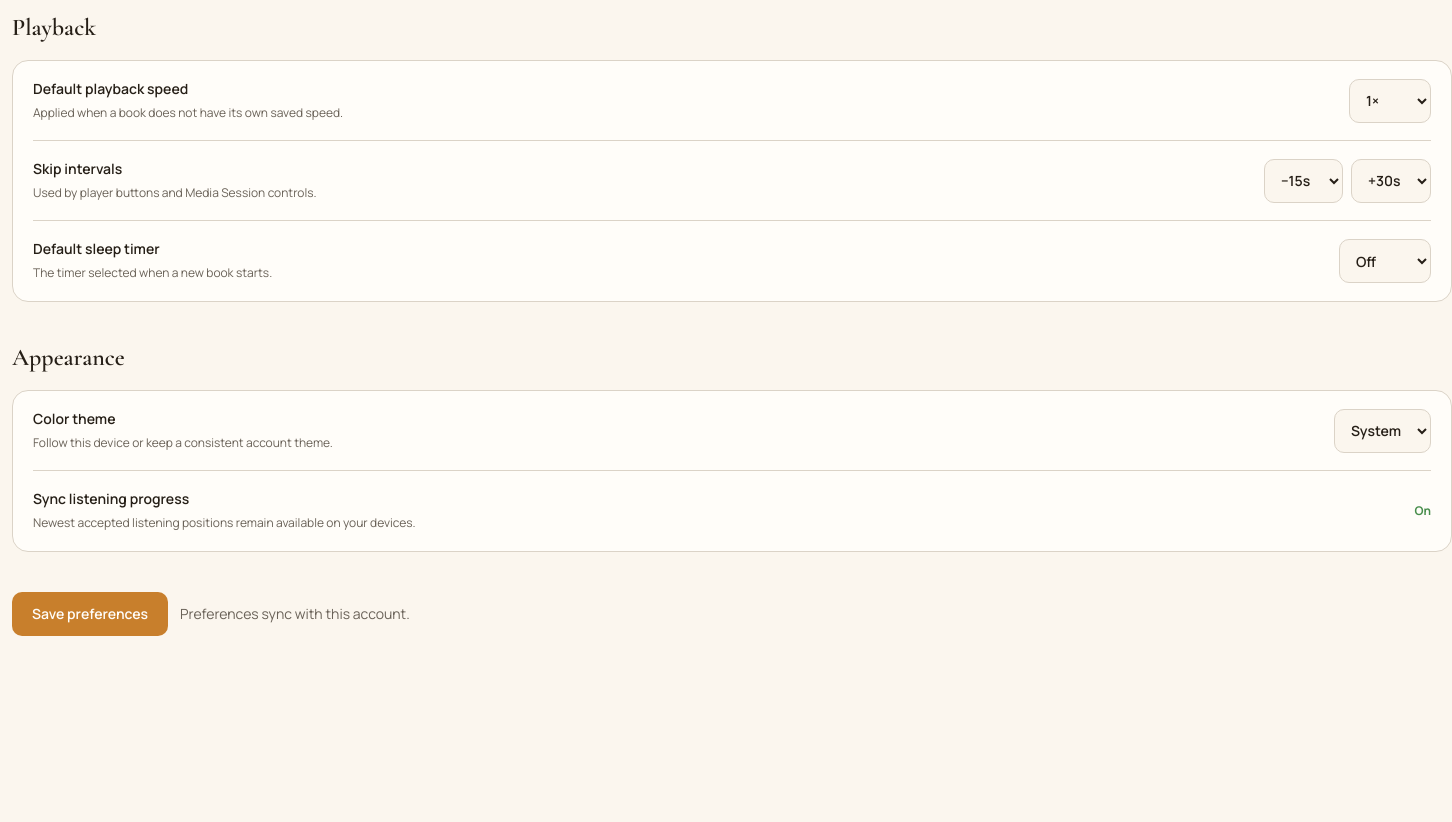
Test: PreferencesForm › saves changed values and refreshes the server layout
This screenshot has width=1452, height=822.
Select "Dark" in the dropdown named "Color theme". click: (1382, 430)
box: [1334, 408, 1431, 452]
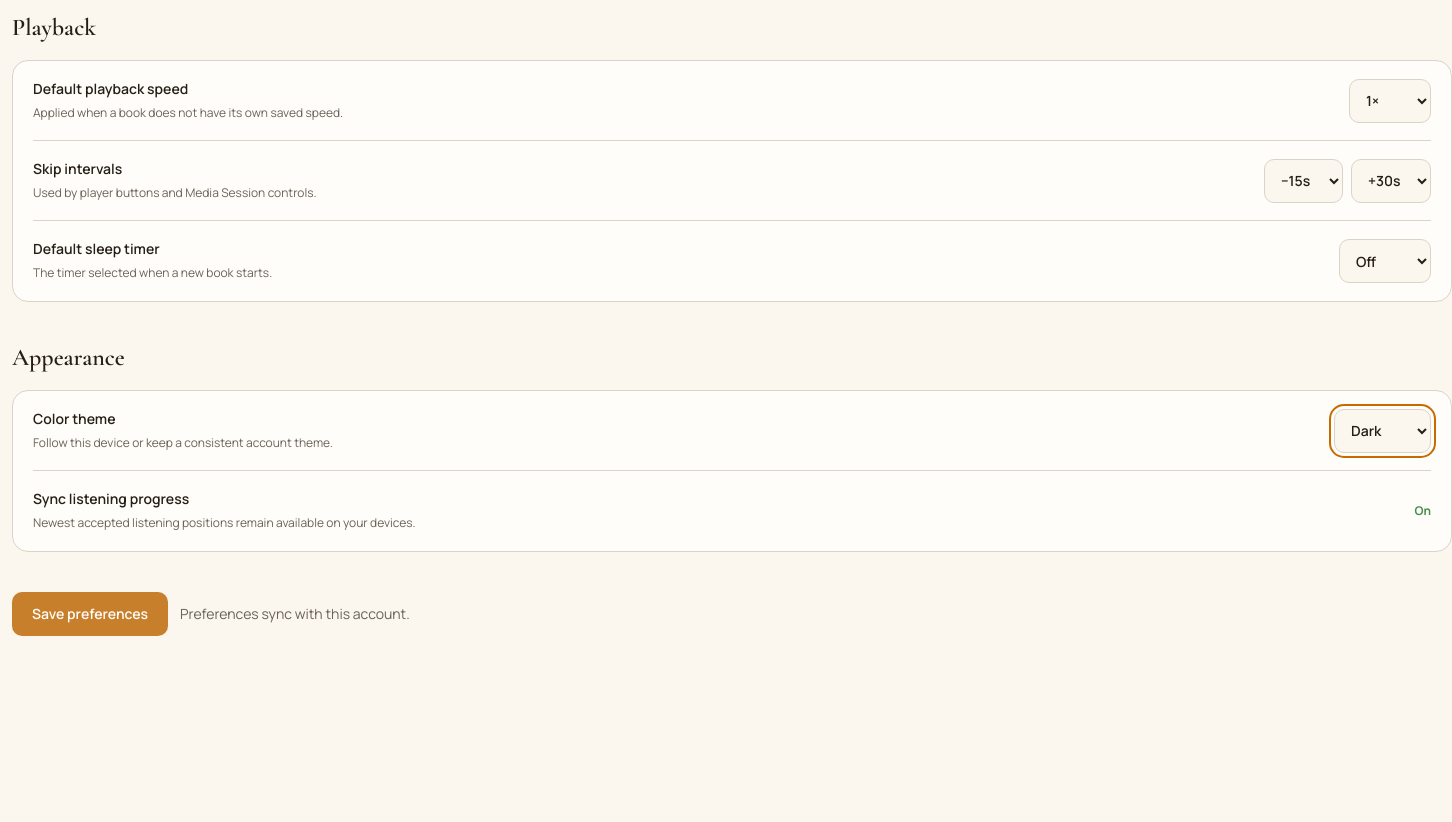
Click the button "Save preferences". click: (90, 614)
box: [12, 592, 168, 636]
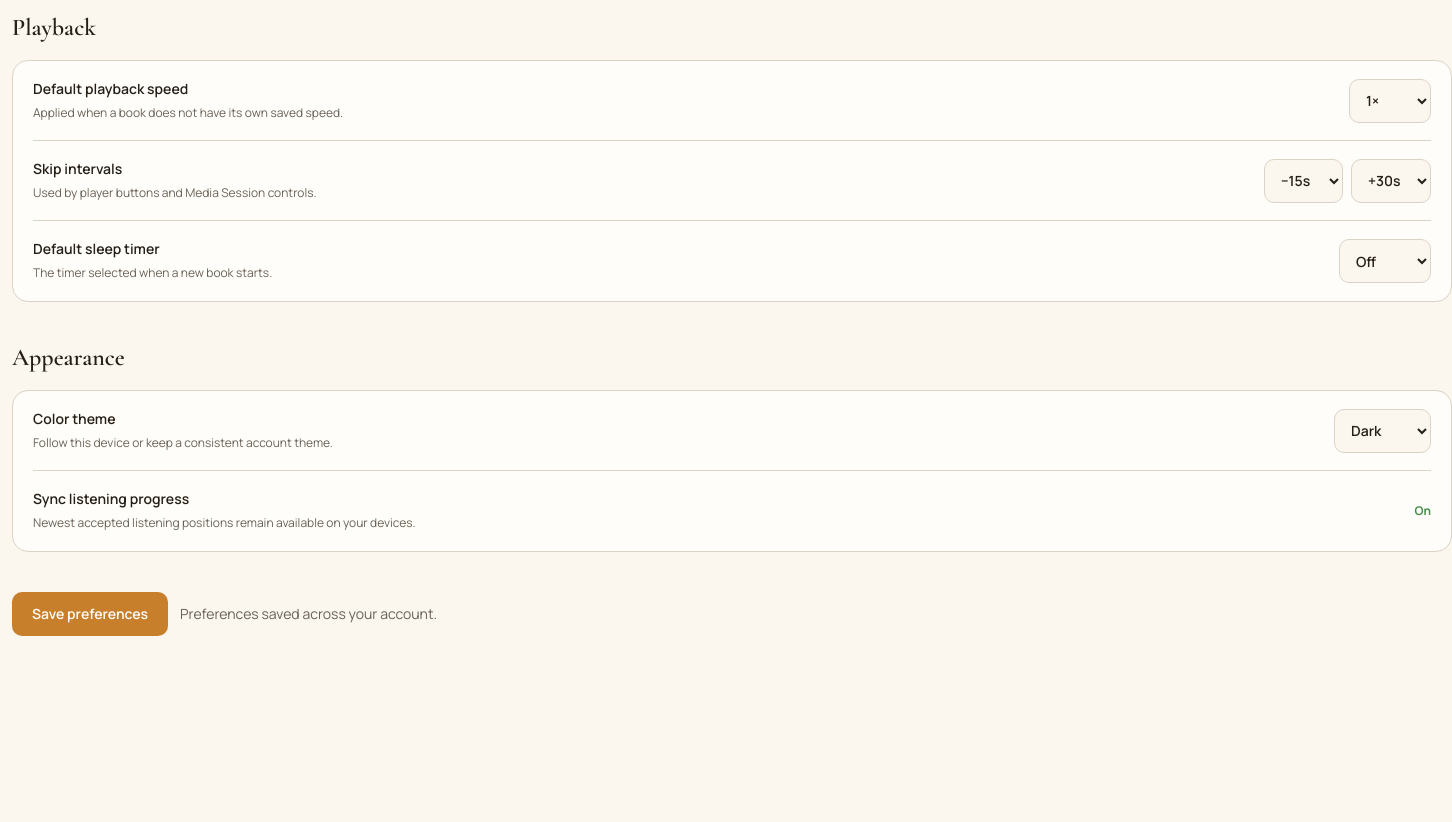
expect the text "Preferences saved across your account." is shown: met, box [180, 604, 437, 624]
